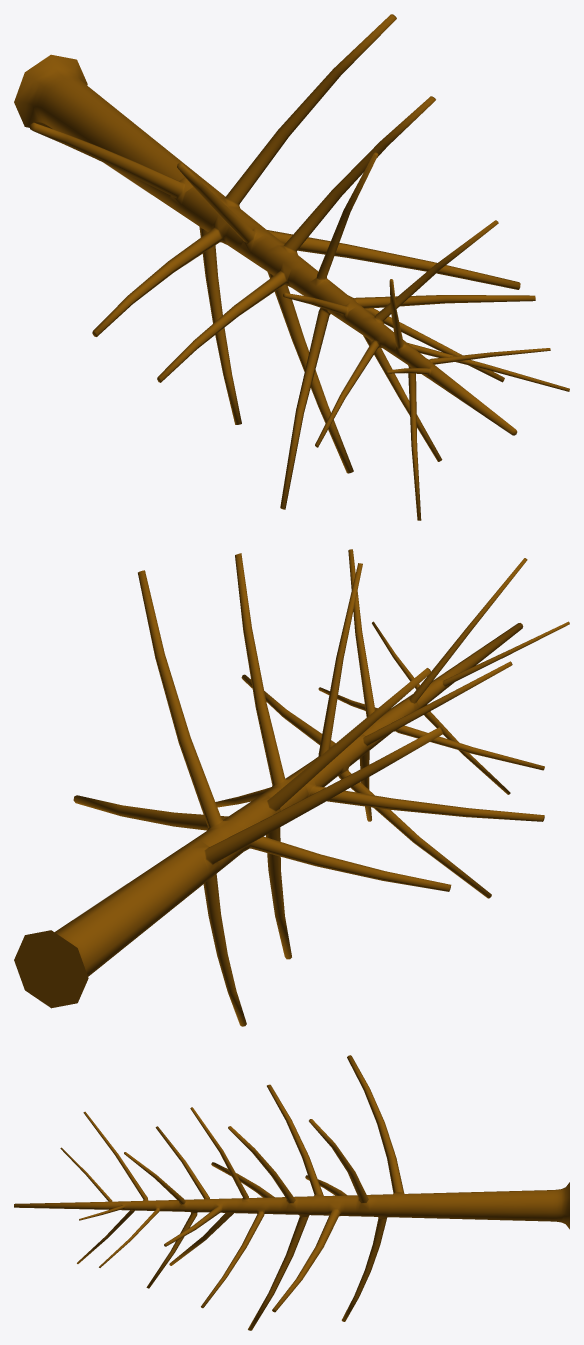
File: tree-bare-low.obj
The picture shows the model from 3 angles, top to bottom: view 1: azimuth 30°, elevation 25°; view 2: azimuth 150°, elevation 25°; view 3: azimuth 270°, elevation 25°; orthographic projection. The views are drawn at different scales.
Visible parts, largest first — view 1: Plant; view 2: Plant; view 3: Plant.
Boxes of the visible parts, <box> form: Plant: <box>14,14,569,520</box>; Plant: <box>14,549,569,1026</box>; Plant: <box>14,1055,569,1330</box>.
Bounding box in the file's own units: 77.06 × 68.91 × 145.
